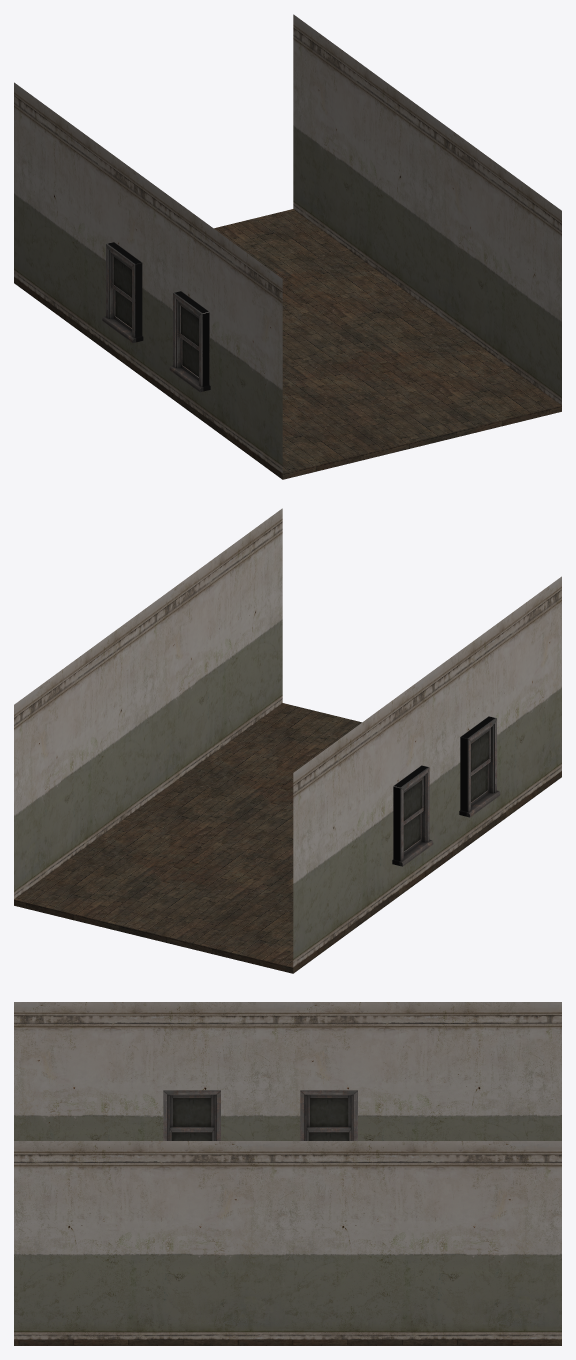
Rendered from hallway_finished_10m_windows_left.fbx.
3 views of the same model, one above another, from view 1: azimuth 30°, elevation 25°; view 2: azimuth 150°, elevation 25°; view 3: azimuth 270°, elevation 25° (orthographic).
Parts seen in each view (by area): view 1: hallway_finished_10m_windows_left; view 2: hallway_finished_10m_windows_left; view 3: hallway_finished_10m_windows_left.
Part boxes in pixels (x1,y1,x2,y2): hallway_finished_10m_windows_left: [14, 14, 561, 479]; hallway_finished_10m_windows_left: [14, 508, 561, 973]; hallway_finished_10m_windows_left: [14, 1002, 561, 1345].
Size of the model in its own units: 623 by 412 by 1000.
